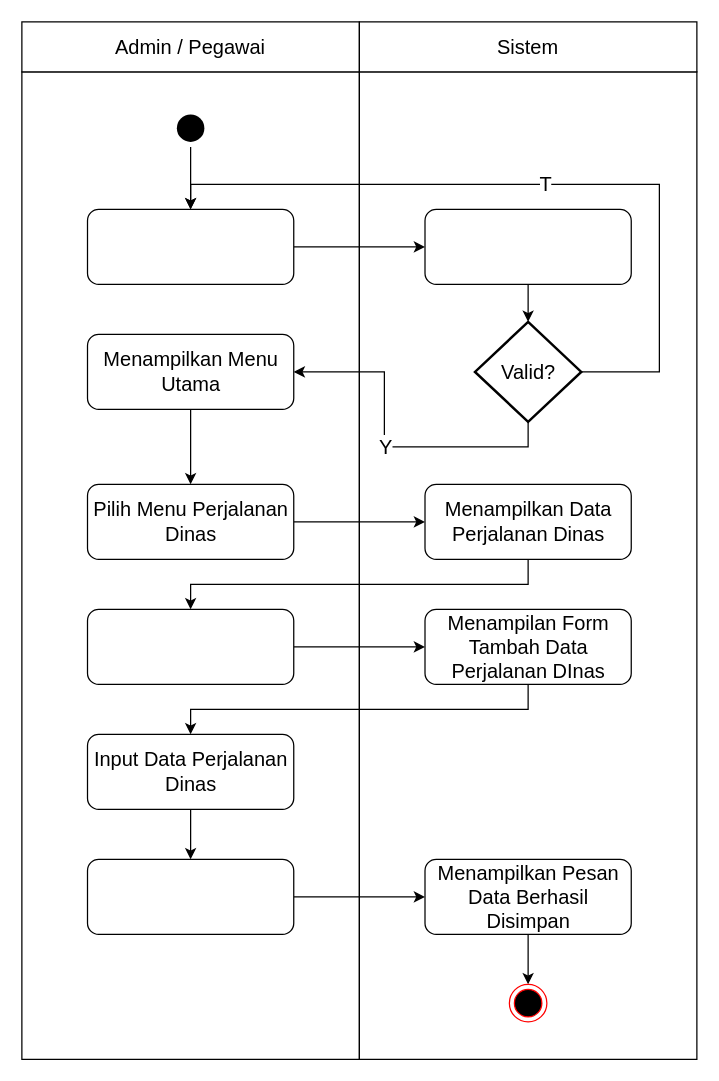
Image size: 719x1081. Some labels were removed from this diagram. The box of each missing label's shape, as (x1, y1, x2, y2) in pixels:
Klik Simpan Data: (86, 858, 294, 934)
Klik Tambah Data Perjalanan Dinas: (86, 608, 294, 684)
Login: (86, 208, 294, 284)
Verifikasi: (424, 208, 631, 284)
